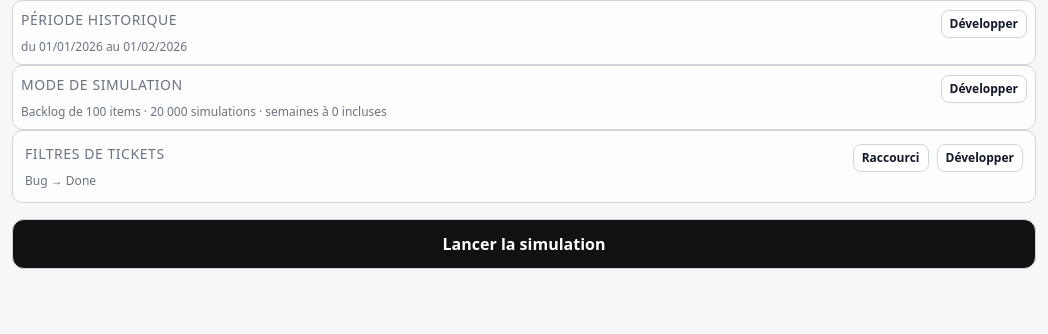
it: SimulationControlPanel launch button visibility › renders UTF-8 labels for period section toggle
Expected: the element "Période historique" is shown, [12,0,1036,65]
What coordinates should you click on to do the following:
click the button "Développer" in the row of "Période historique"
I would click on:
 (984, 24)
Its box is [940,10,1027,38].
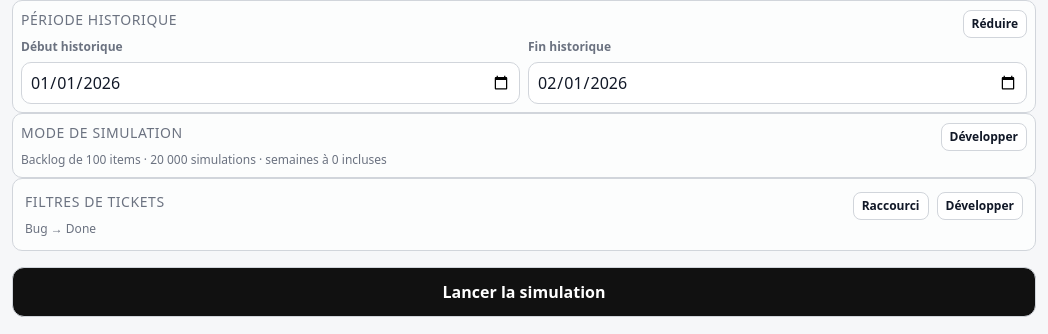
Expected: the button "Réduire" is shown, [962,10,1027,38]
